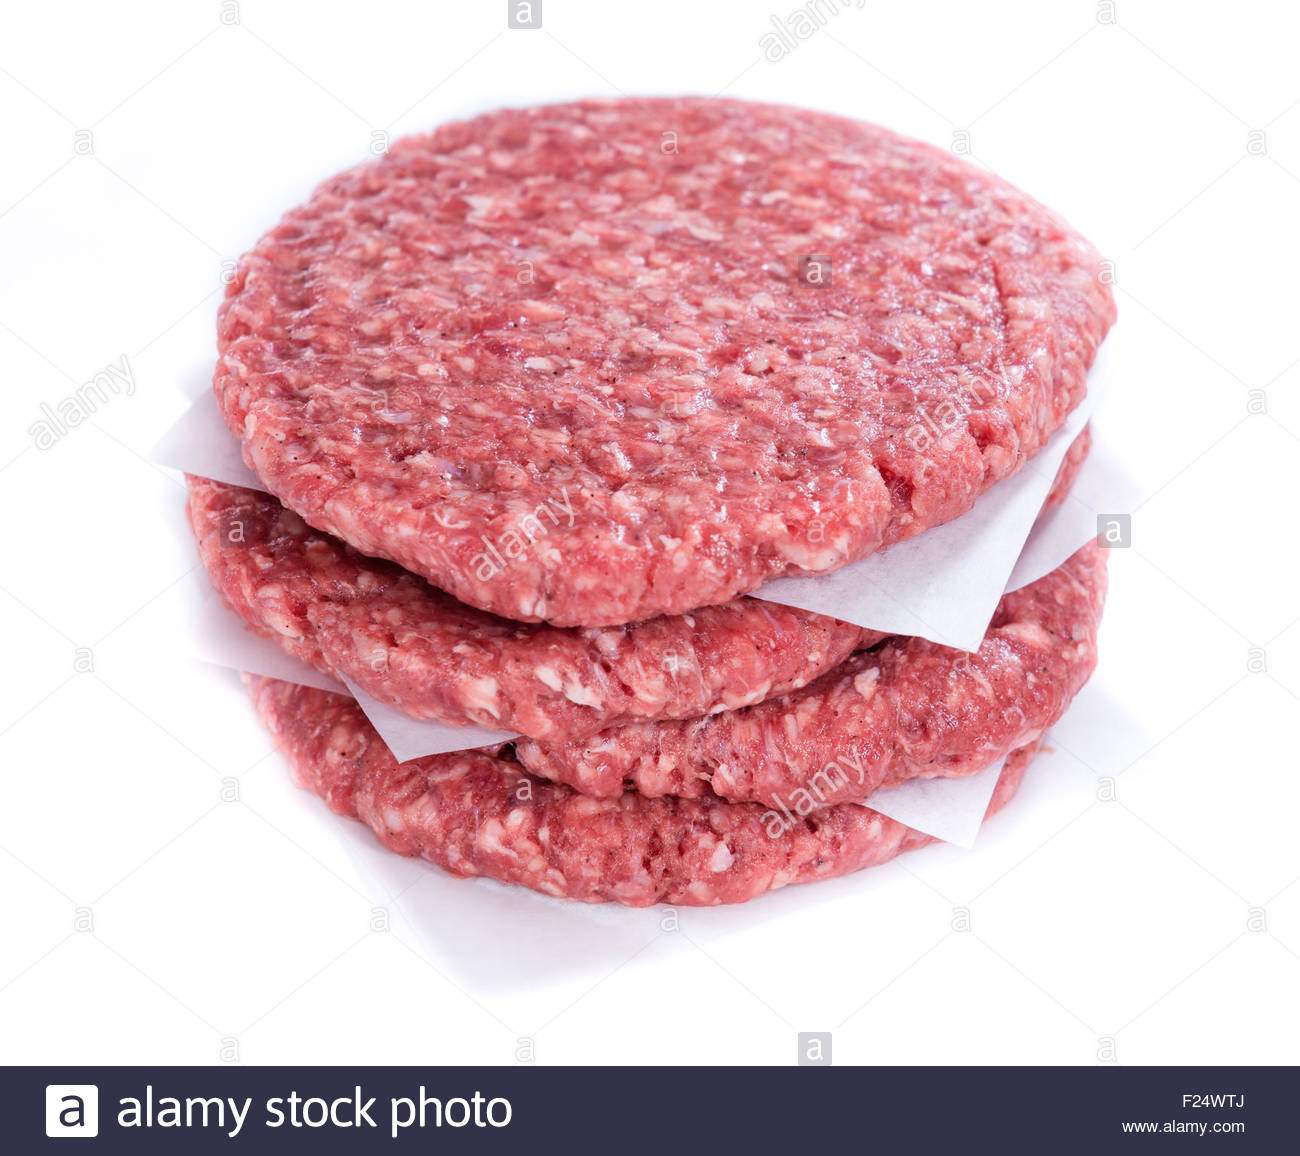ground_beef: (182, 88, 1149, 938)
